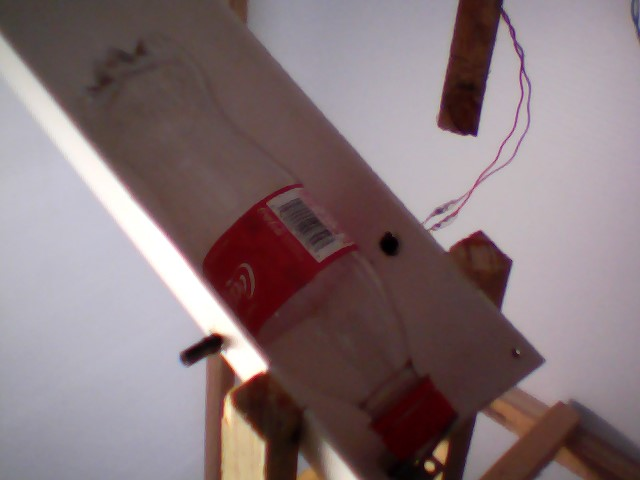plastico: (64, 28, 467, 462)
